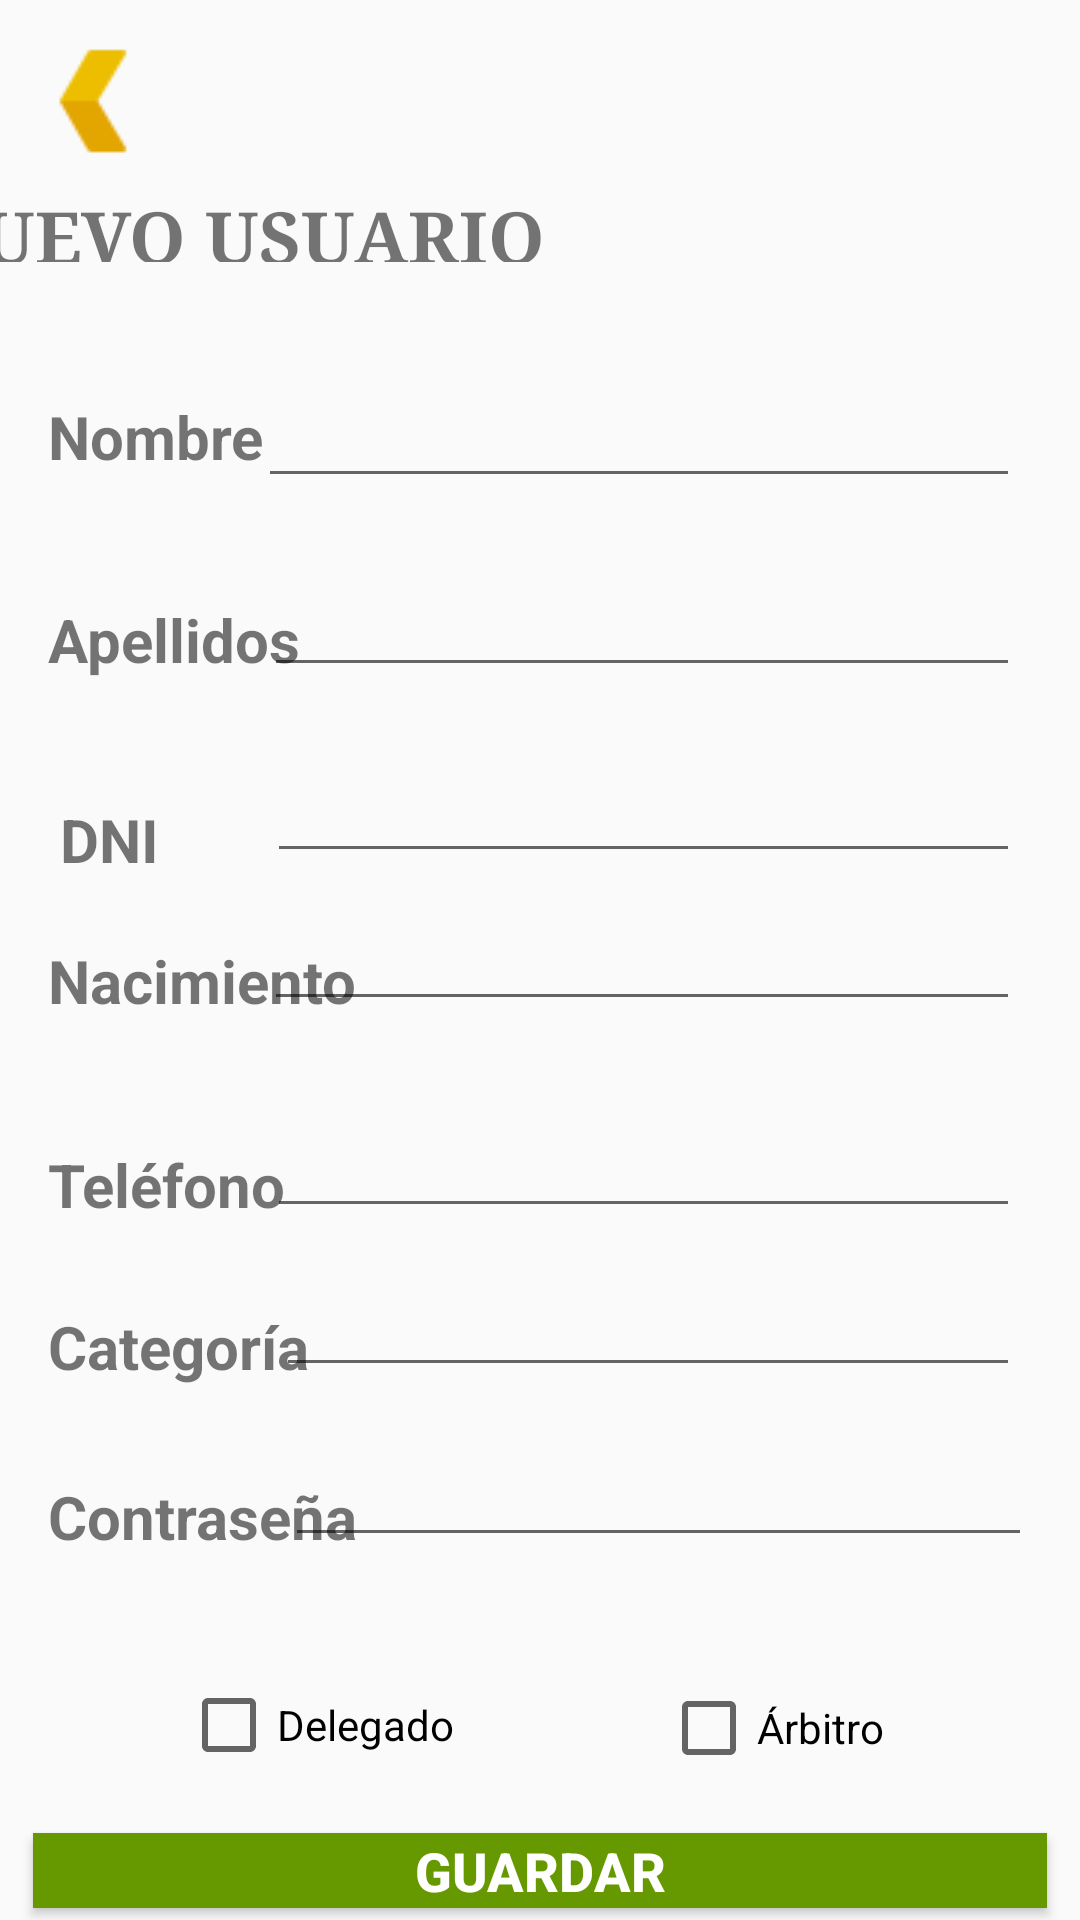

Named icons in this screenshot (1080 x 1920) and their centers, point (x, y):
volveroro: point (93, 101)
